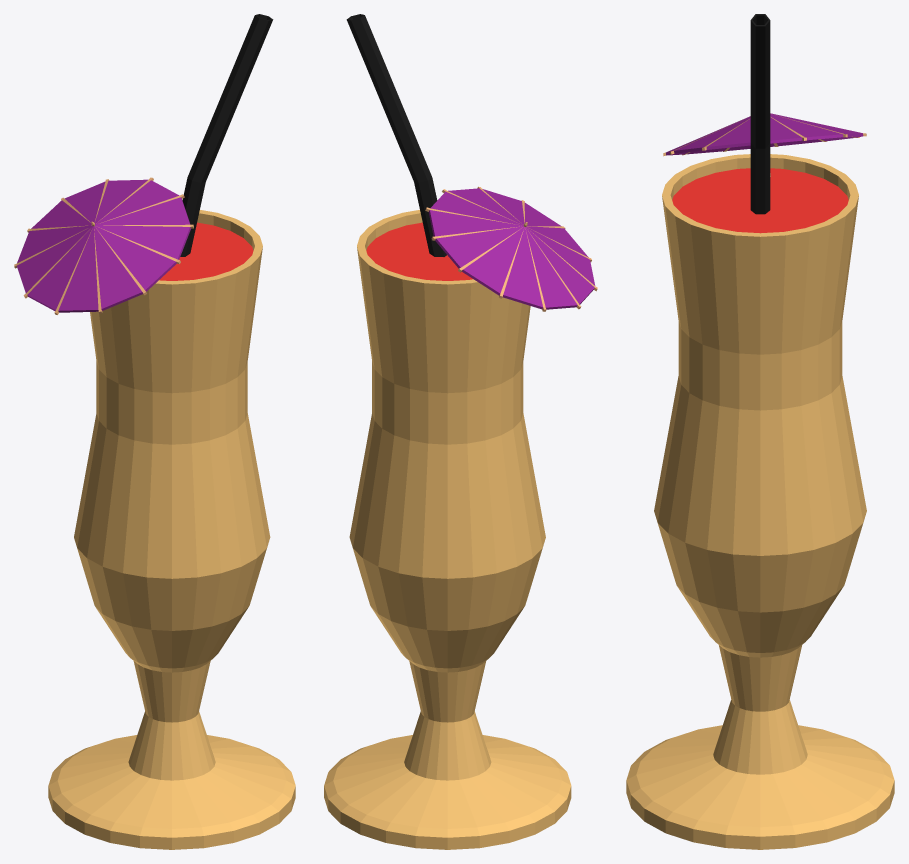
The model's file is Cocktail_05.fbx.
The picture shows the model from 3 angles, left to right: view 1: azimuth 30°, elevation 25°; view 2: azimuth 150°, elevation 25°; view 3: azimuth 270°, elevation 25°; orthographic projection. The views are drawn at different scales.
Parts seen in each view (by area): view 1: Cocktail_05; view 2: Cocktail_05; view 3: Cocktail_05.
Boxes of the visible parts, x1,y1,x2,y2 form: Cocktail_05: (14,14,295,849); Cocktail_05: (324,14,597,849); Cocktail_05: (626,14,894,849).
Size of the model in its own units: 8.98 by 26.36 by 7.77.
